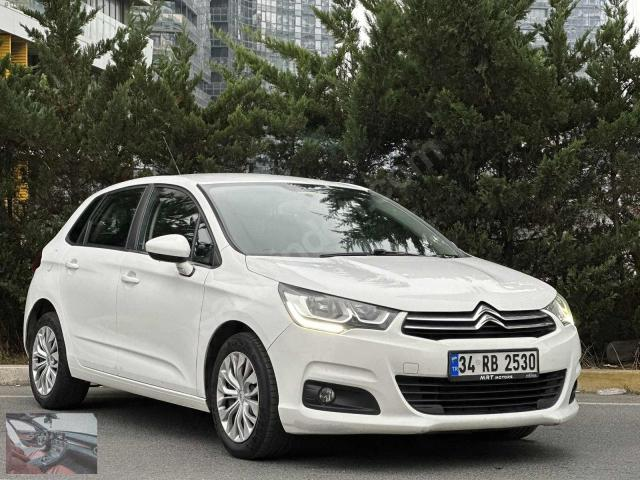plaka: (449, 350, 538, 380)
